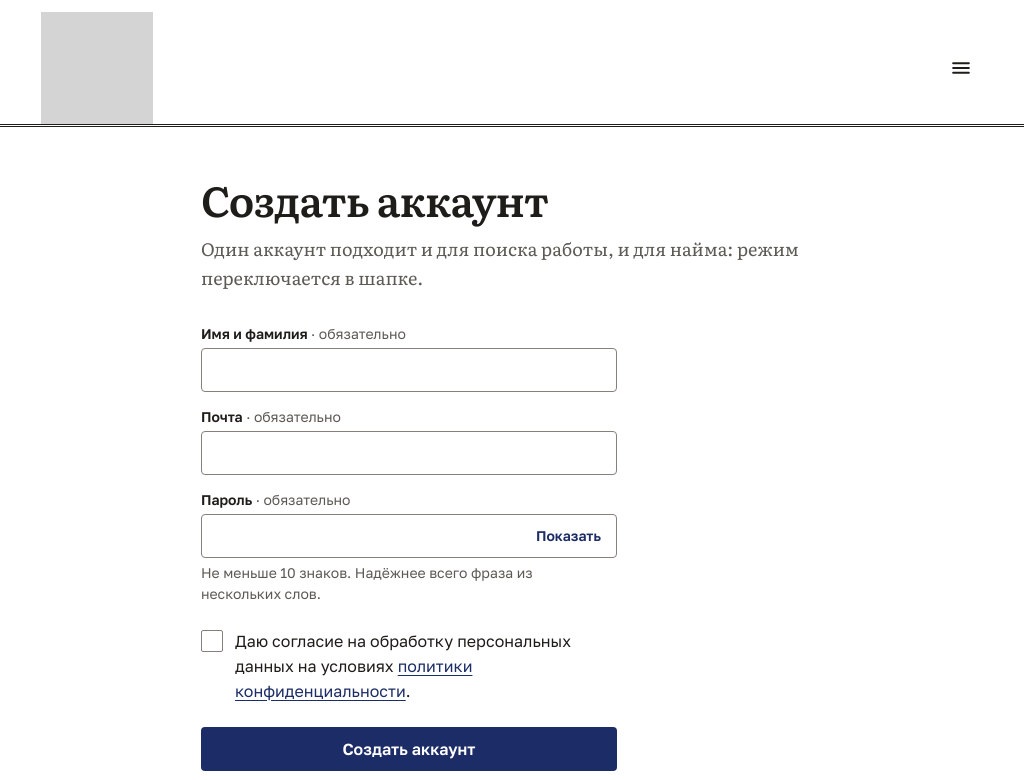
it: RegisterPage › removes a problem as soon as the person starts fixing that field
Click the button "Создать аккаунт" at (409, 749), box [201,727,617,771]
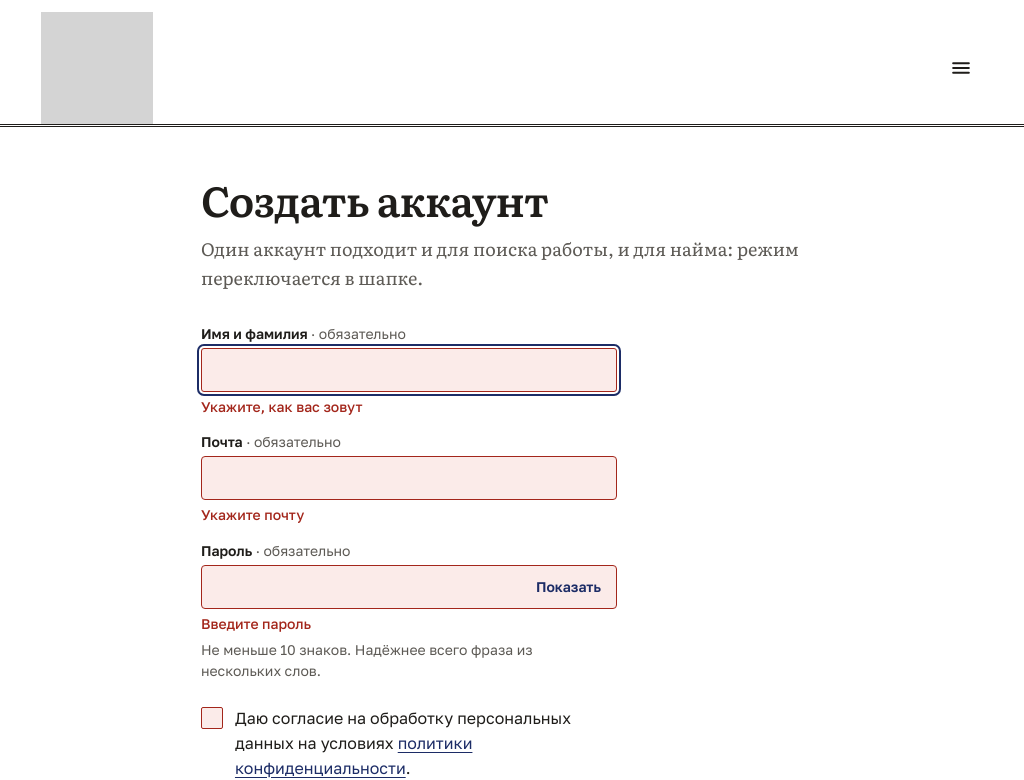
Now the text "Укажите почту" is shown, box [201,506,304,523]
Type "a" into the field labelled "Почта · обязательно" at (409, 478), box [201,456,617,500]
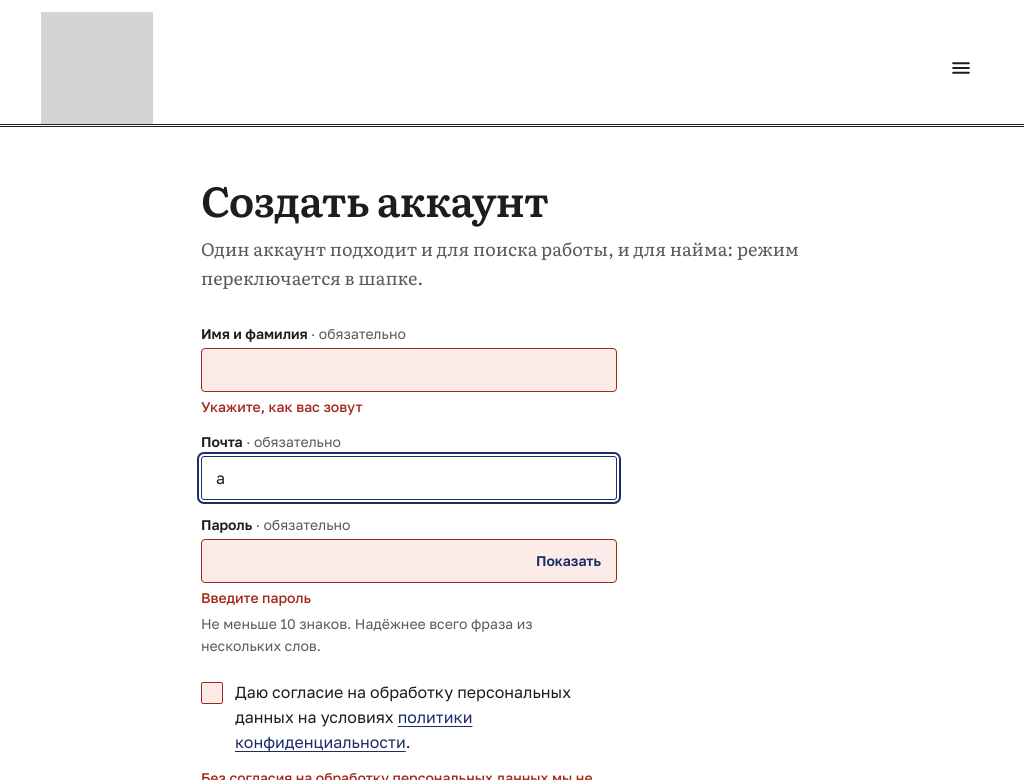
Now the text "Введите пароль" is shown, box [201,589,311,606]
Now the text "Укажите почту" is gone
